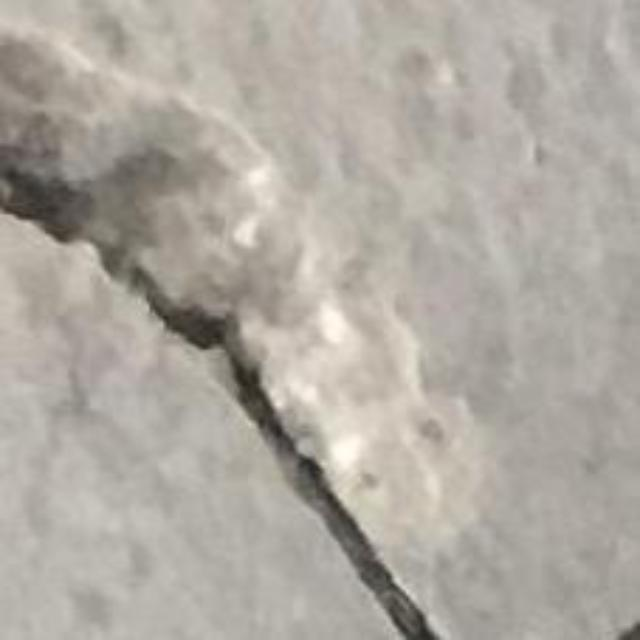crack: (0, 147, 439, 639)
